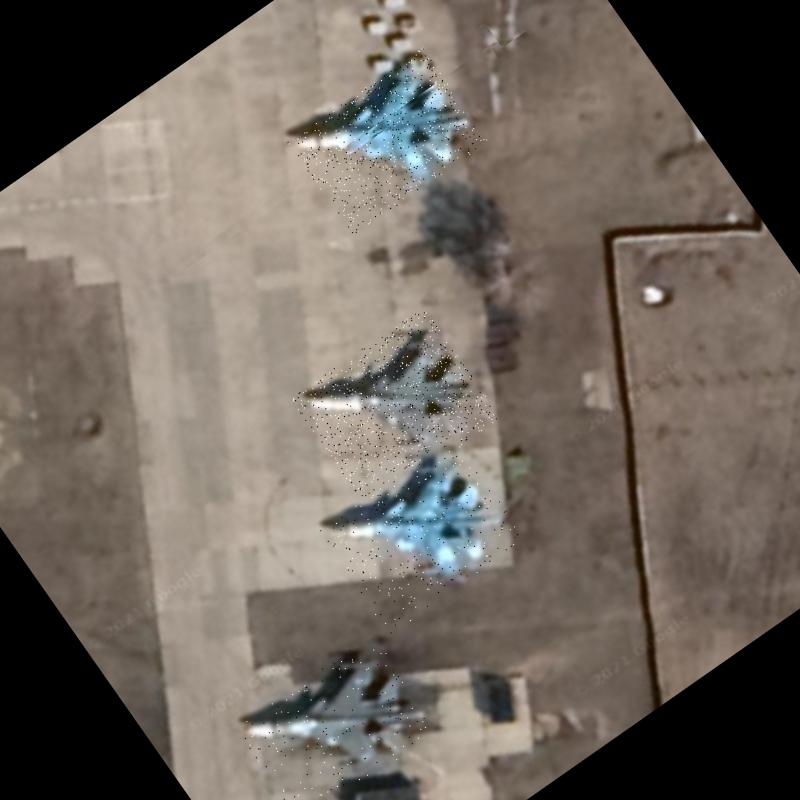A19: (290, 306, 501, 510), (318, 436, 527, 635), (288, 47, 488, 236), (233, 632, 440, 800)
